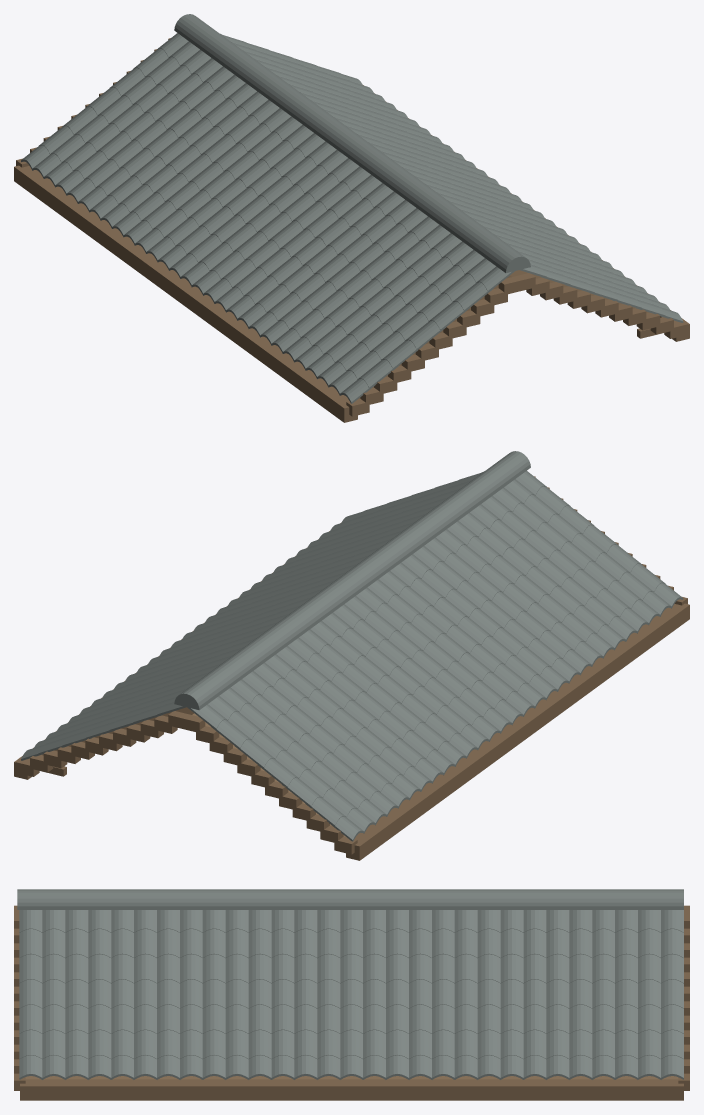
The model's file is yakitori_clay_roof.glb.
3 views of the same model, one above another, from view 1: azimuth 30°, elevation 25°; view 2: azimuth 150°, elevation 25°; view 3: azimuth 270°, elevation 25° (orthographic).
Parts seen in each view (by area): view 1: OverlappingCurvedClayTiles, EaveBeamsAndSoffit; view 2: OverlappingCurvedClayTiles, EaveBeamsAndSoffit; view 3: OverlappingCurvedClayTiles, EaveBeamsAndSoffit.
Boxes of the visible parts, x1,y1,x2,y2 form: OverlappingCurvedClayTiles: [21, 14, 683, 403]; EaveBeamsAndSoffit: [14, 38, 689, 422]; OverlappingCurvedClayTiles: [21, 451, 683, 841]; EaveBeamsAndSoffit: [14, 476, 689, 860]; OverlappingCurvedClayTiles: [17, 889, 683, 1079]; EaveBeamsAndSoffit: [14, 905, 689, 1100].
Bounding box in the file's own units: 5.5 × 1.89 × 9.26.
